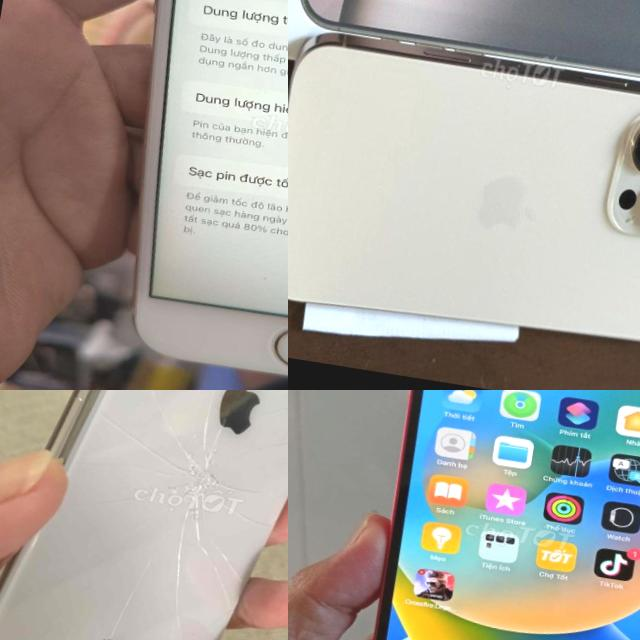gen_12_13: (353, 390, 640, 640)
gen_16: (288, 19, 640, 379)
gen_6: (86, 0, 288, 390)
gen_x_xs: (0, 390, 288, 640)
physical_damage: (0, 390, 288, 640)
